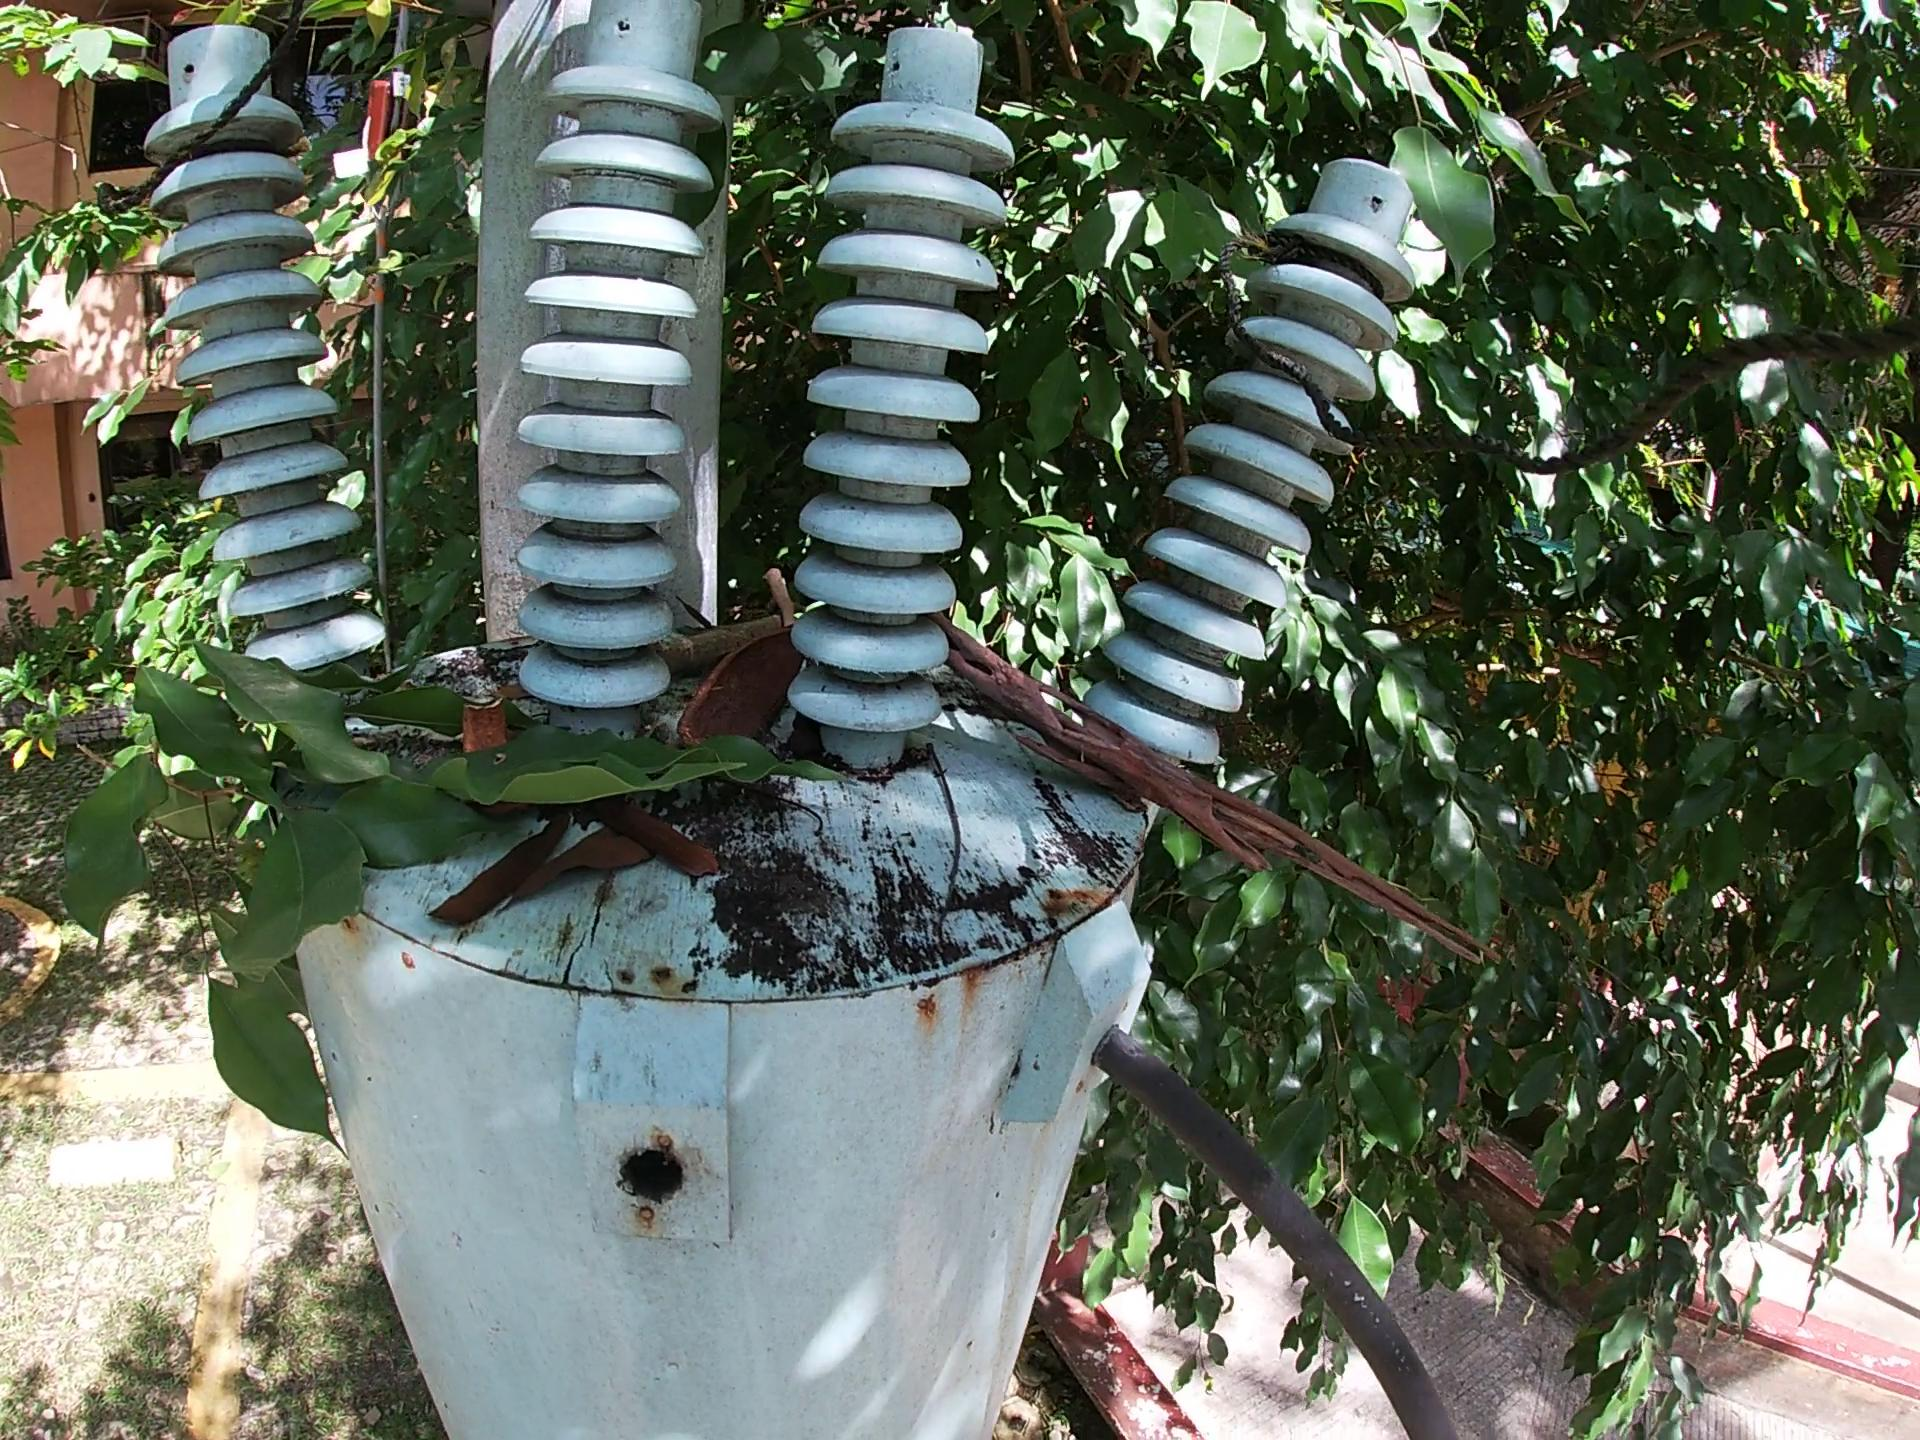branch with leaves: (56, 634, 869, 1162)
leaf: (420, 805, 578, 935), (502, 820, 658, 921), (591, 796, 727, 888)
mahogany fruit: (673, 622, 807, 749), (458, 694, 514, 762)
tree branch: (930, 607, 1509, 971), (650, 616, 791, 684), (759, 567, 804, 623)
